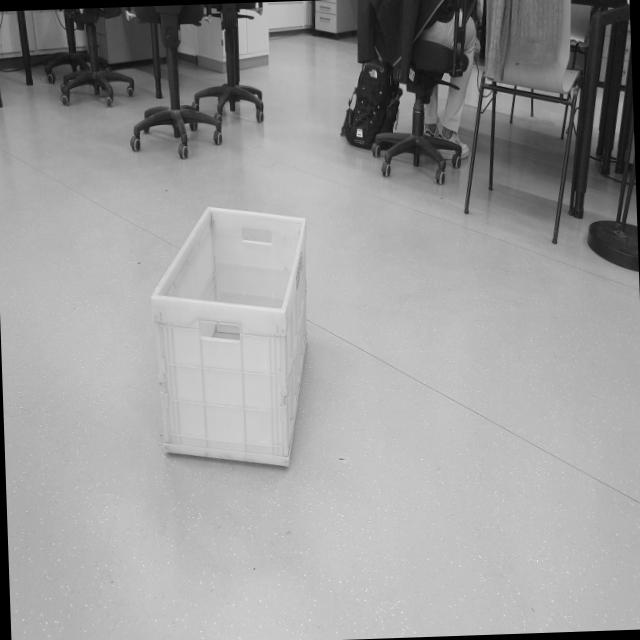box: (140, 194, 318, 498)
